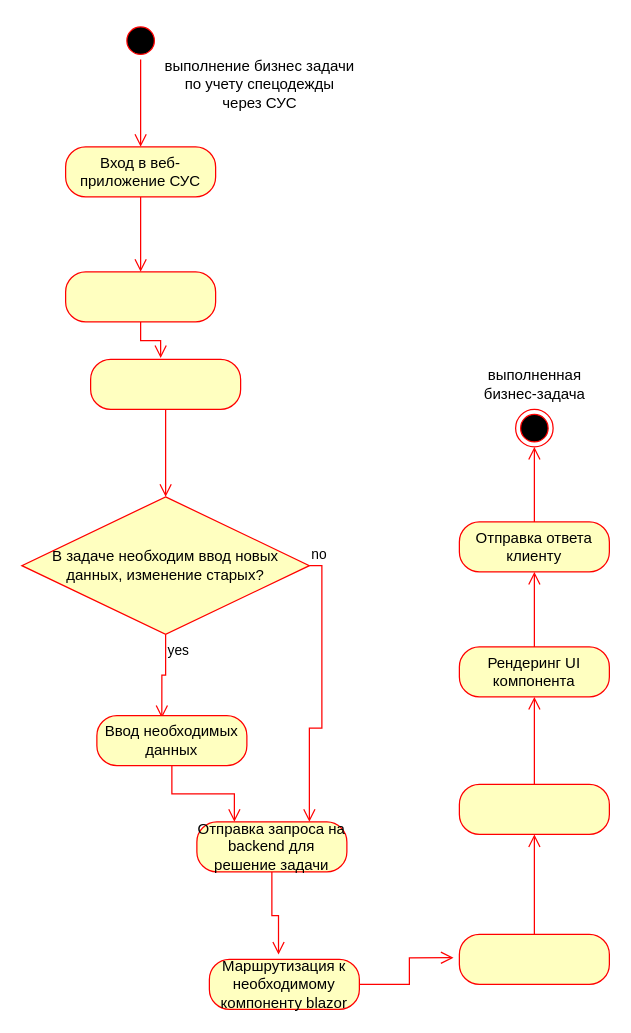
This 631x1033 diagram has some shape labels left out. The shapes that lost their labels are listed below. From the top down, each one's box as (x1, y1, x2, y2) in pixels, then its label:
(64, 271, 216, 322): Переход в необходимый раздел
(89, 358, 241, 409): Взаимодействие с UI системы
(458, 783, 609, 834): Взаимодействие с БД
(458, 933, 609, 984): Вызов необходимого бизнес-сервиса
